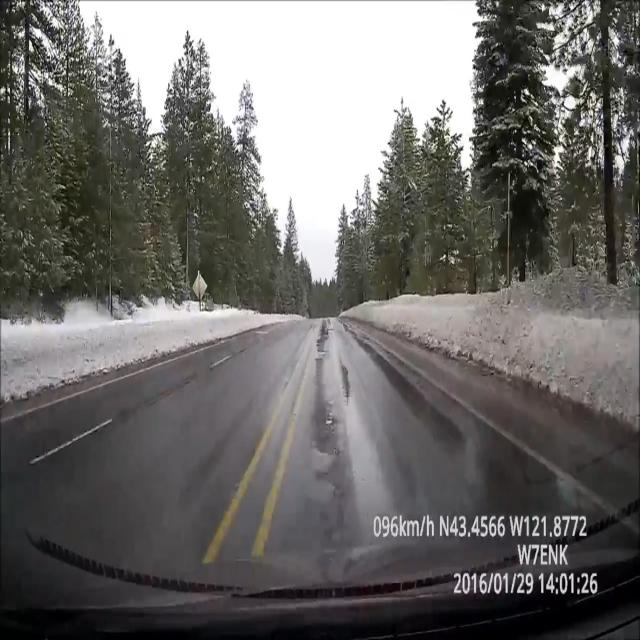Pothole: (317, 398, 343, 431), (318, 316, 338, 340)
